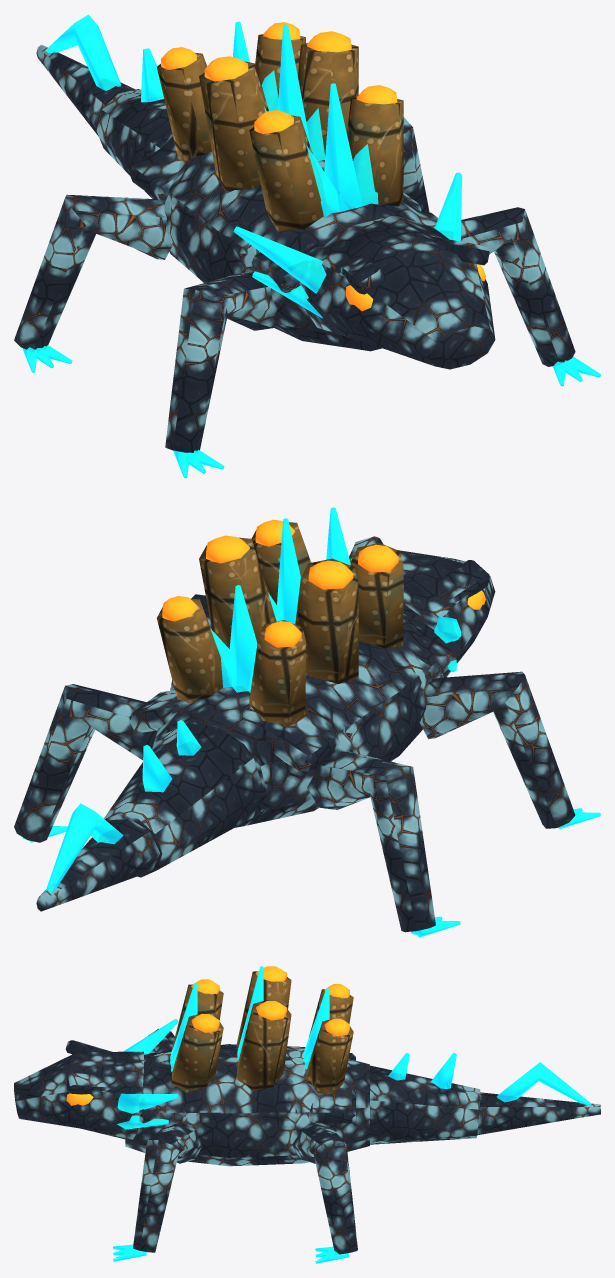
The model's file is enemy_vent_stalker.glb.
3 renders of one model, top to bottom at view 1: azimuth 30°, elevation 25°; view 2: azimuth 150°, elevation 25°; view 3: azimuth 270°, elevation 25°, orthographic. The views are drawn at different scales.
Parts seen in each view (by area): view 1: dorsal_vents, stalker_head, stalker_torso, leg_BL, leg_FL, leg_FR, tail_1_mesh, tail_2_mesh, leg_BR; view 2: dorsal_vents, stalker_torso, tail_1_mesh, leg_BL, leg_FL, leg_BR, tail_2_mesh, stalker_head; view 3: stalker_torso, dorsal_vents, stalker_head, tail_1_mesh, leg_FR, leg_BR, tail_2_mesh.
Part boxes in pixels (x1,y1,x2,y2): dorsal_vents: (157,21,403,231); stalker_head: (233,172,495,369); stalker_torso: (129,134,462,351); leg_BL: (14,194,172,372); leg_FL: (165,271,277,478); leg_FR: (461,207,600,386); tail_1_mesh: (96,48,172,198); tail_2_mesh: (36,14,135,136); leg_BR: (403,117,429,212); dorsal_vents: (156,507,403,726); stalker_torso: (129,614,462,827); tail_1_mesh: (104,720,263,877); leg_BL: (307,750,460,937); leg_FL: (419,671,600,829); leg_BR: (14,684,157,842); tail_2_mesh: (36,803,159,911); stalker_head: (349,536,495,677); stalker_torso: (125,1044,369,1166); dorsal_vents: (170,966,353,1094); stalker_head: (14,1019,178,1139); tail_1_mesh: (370,1052,480,1144); leg_FR: (113,1122,202,1261); leg_BR: (292,1122,357,1263); tail_2_mesh: (477,1062,600,1135).
Bounding box in the file's own units: 0.729 × 0.5276 × 1.25.
4 materials, 2 textured.
